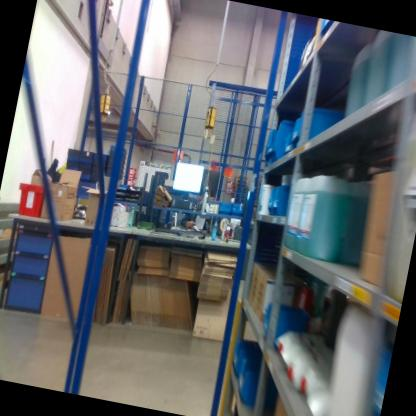small_load_carrier: (5, 174, 49, 227)
